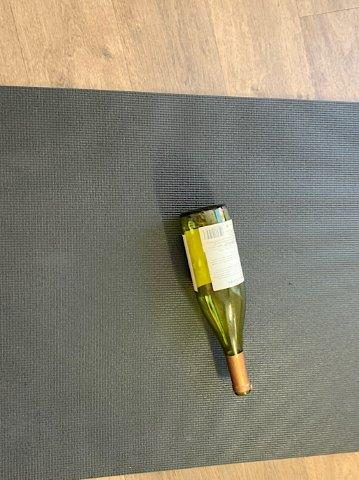botolkaca: (180, 204, 253, 398)
